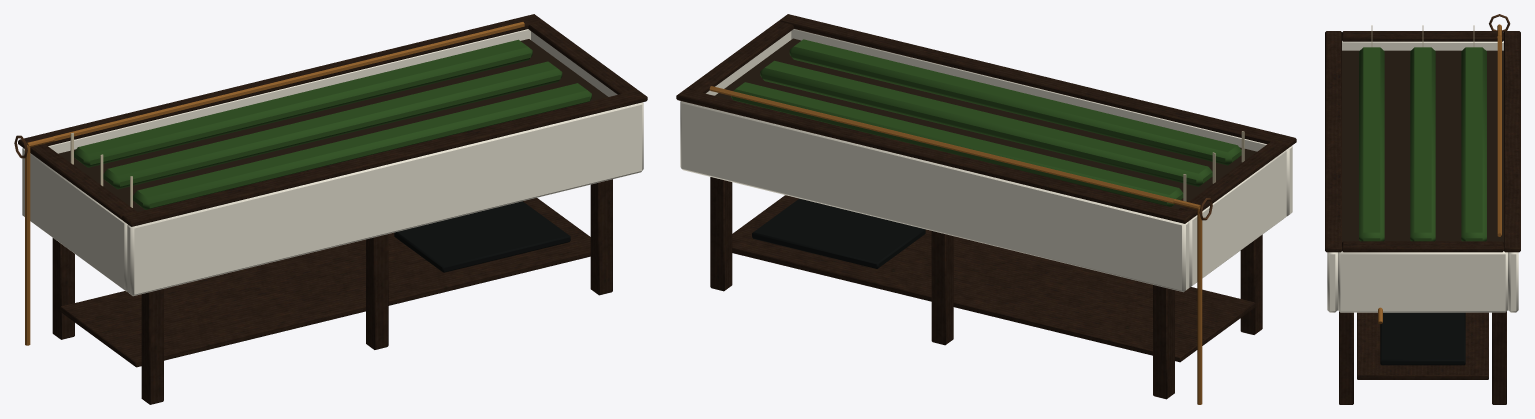
File: conservatory-growing-bed.lod1.glb
3 views of the same model, side by side, from view 1: azimuth 30°, elevation 25°; view 2: azimuth 150°, elevation 25°; view 3: azimuth 270°, elevation 25° (orthographic). The views are drawn at different scales.
Visible parts, largest first — view 1: conservatory_growing_bed_Timber • oiled walnut, conservatory_growing_bed_Trim • places palette, conservatory_growing_bed_Ceramic • warm ivory; view 2: conservatory_growing_bed_Timber • oiled walnut, conservatory_growing_bed_Ceramic • warm ivory, conservatory_growing_bed_Trim • places palette; view 3: conservatory_growing_bed_Trim • places palette, conservatory_growing_bed_Timber • oiled walnut, conservatory_growing_bed_Ceramic • warm ivory.
Part boxes in pixels (<box>): conservatory_growing_bed_Timber • oiled walnut: <box>18,14,647,404</box>; conservatory_growing_bed_Trim • places palette: <box>14,22,607,345</box>; conservatory_growing_bed_Ceramic • warm ivory: <box>22,29,643,296</box>; conservatory_growing_bed_Timber • oiled walnut: <box>676,14,1296,399</box>; conservatory_growing_bed_Ceramic • warm ivory: <box>680,29,1292,292</box>; conservatory_growing_bed_Trim • places palette: <box>709,38,1256,404</box>; conservatory_growing_bed_Trim • places palette: <box>1342,14,1510,365</box>; conservatory_growing_bed_Timber • oiled walnut: <box>1325,31,1520,404</box>; conservatory_growing_bed_Ceramic • warm ivory: <box>1327,41,1518,312</box>.
Bounding box in the file's own units: 2.52 × 0.96 × 0.92.
3 materials, 2 textured.
